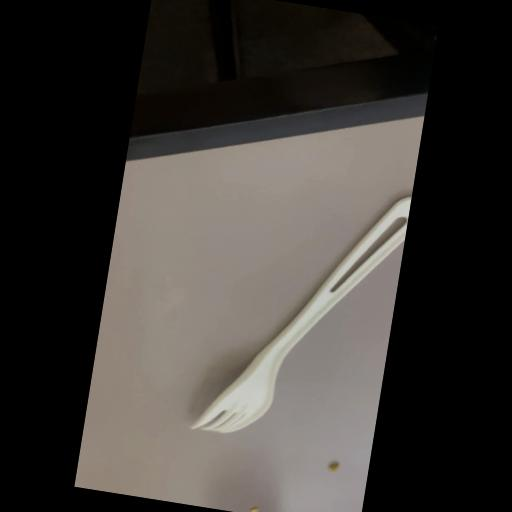utensil: (183, 157, 413, 465)
